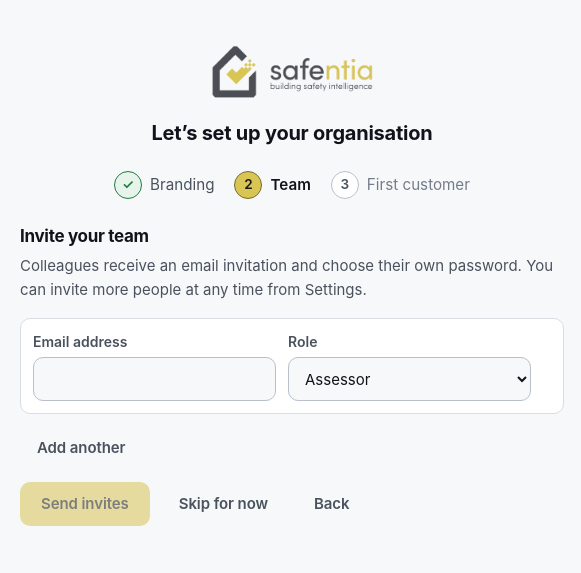
Test: SetupWizard › rejects a malformed email on add
Type "not-an-email" into the field labelled "Email address" at (154, 379), box [33, 357, 276, 401]
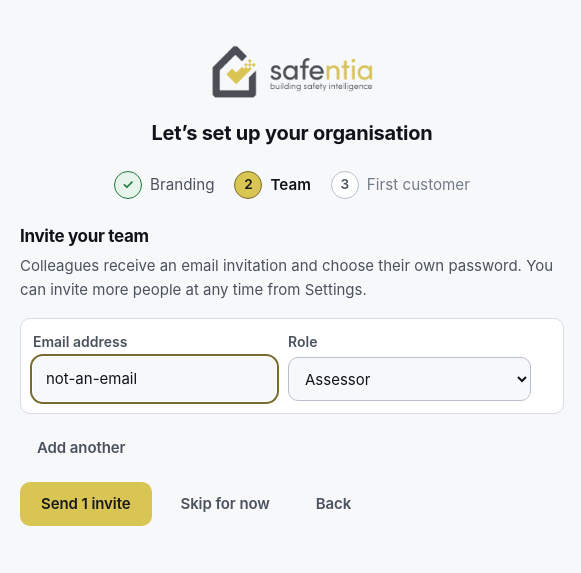
Click the button "Add another" at (81, 448), box [20, 426, 142, 470]
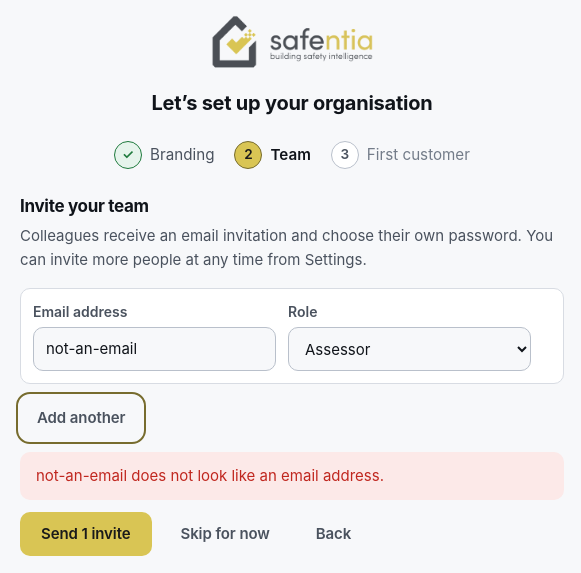
Expected: the number of fields labelled "Email address" is 1, [33, 327, 276, 371]
Expected: the text "not-an-email does not look like an email address." is shown, [20, 452, 564, 500]
